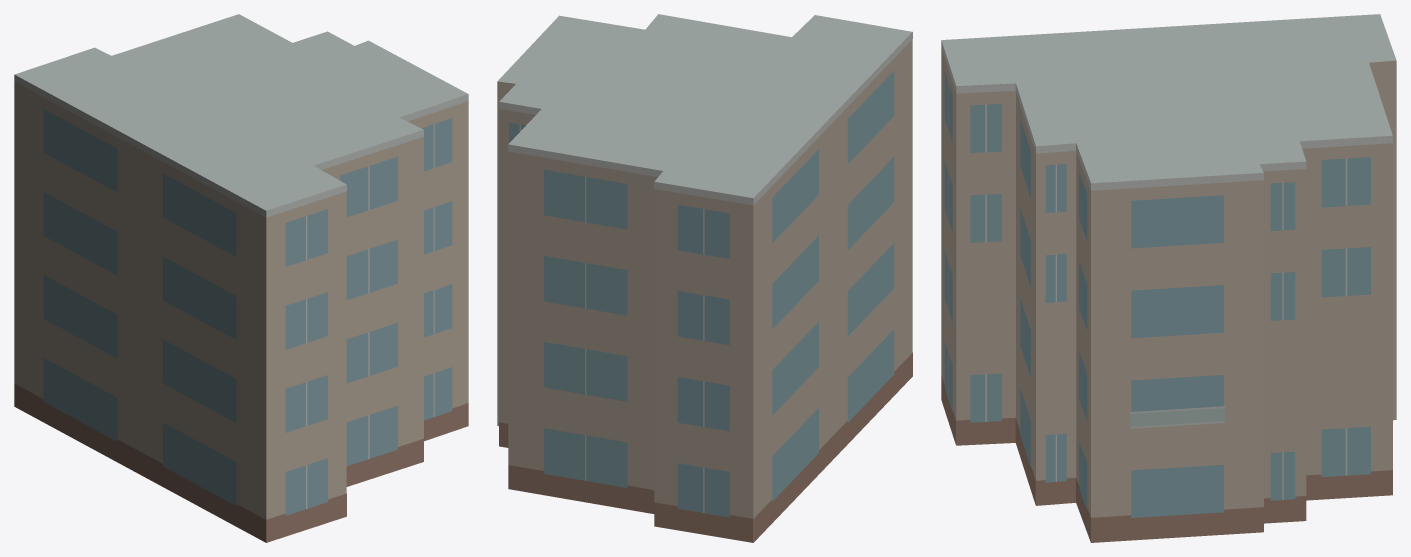
The model's file is survey-upis-32589564.glb.
The picture shows the model from 3 angles, left to right: view 1: azimuth 30°, elevation 25°; view 2: azimuth 150°, elevation 25°; view 3: azimuth 270°, elevation 25°; orthographic projection. The views are drawn at different scales.
Parts seen in each view (by area): view 1: survey-upis-32589564.tmp; view 2: survey-upis-32589564.tmp; view 3: survey-upis-32589564.tmp.
Boxes of the visible parts, bbox=[...] form: survey-upis-32589564.tmp: bbox=[14, 14, 468, 542]; survey-upis-32589564.tmp: bbox=[497, 14, 912, 542]; survey-upis-32589564.tmp: bbox=[941, 14, 1396, 542].
Size of the model in its own units: 11.94 by 11.8 by 13.55.
